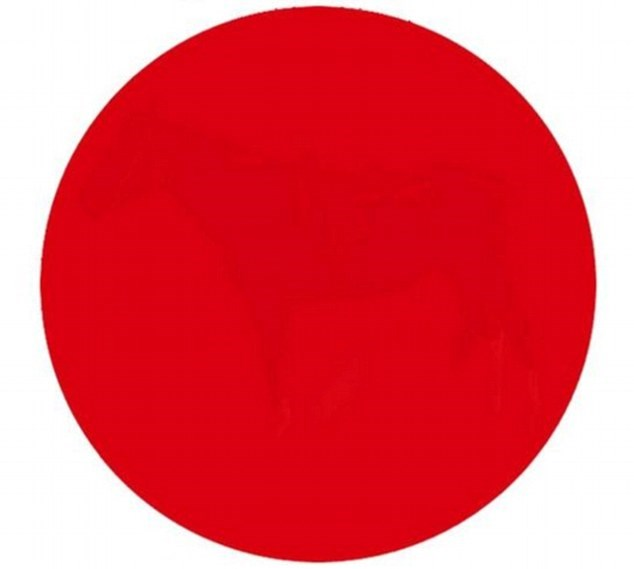su birakma alani: (39, 6, 600, 565)
